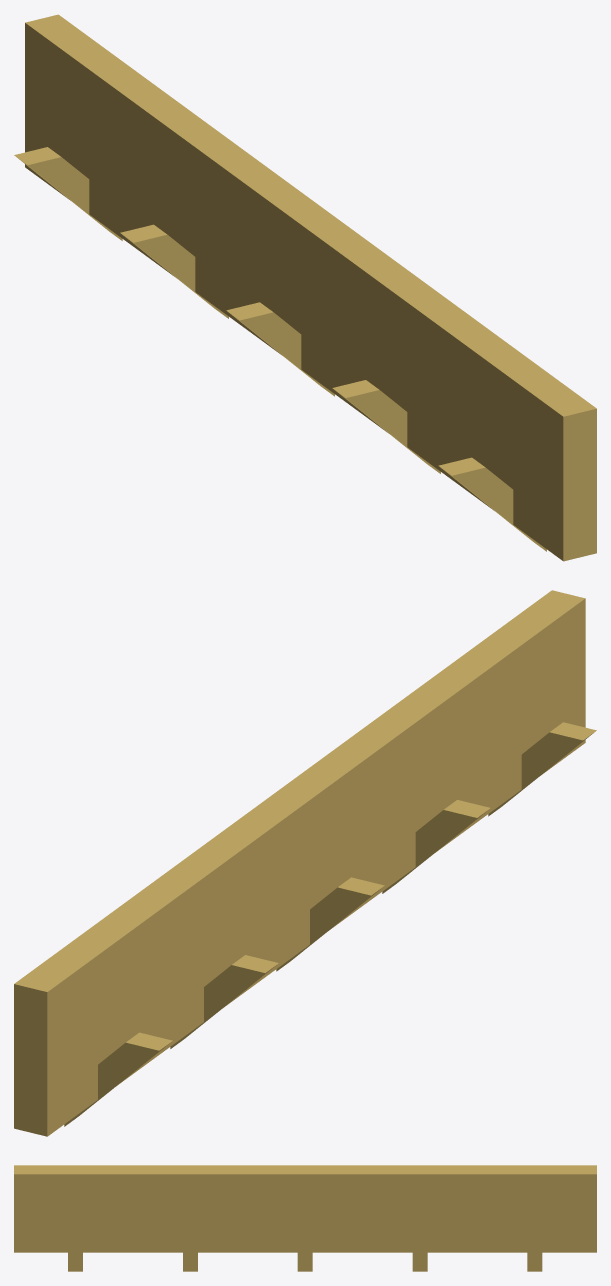
File: SM_ClothesRack.fbx
3 views of the same model, one above another, from view 1: azimuth 30°, elevation 25°; view 2: azimuth 150°, elevation 25°; view 3: azimuth 270°, elevation 25° (orthographic). The views are drawn at different scales.
Visible parts, largest first — view 1: SM_ClothesRack; view 2: SM_ClothesRack; view 3: SM_ClothesRack.
Part boxes in pixels (box(x1,y1,x2,y2)): SM_ClothesRack: box(14, 14, 596, 561); SM_ClothesRack: box(14, 590, 596, 1136); SM_ClothesRack: box(14, 1165, 596, 1271).
Bounding box in the file's own units: 5.67 × 10.26 × 55.65.
